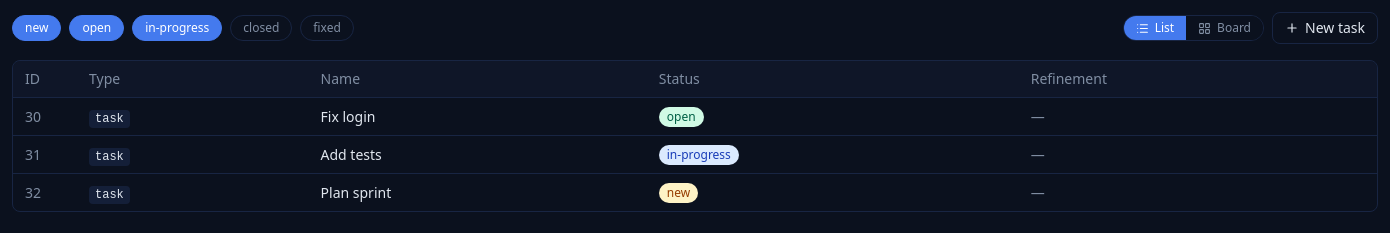
Test 1 — Board renders one column per visible status in TASK_STATUSES order › positive: default filter (new, open, in-progress) → exactly 3 columns in array order
The image size is (1390, 233).
Click the button with test id "tasks-view-toggle-board".
click(1225, 28)  # box [1186,16,1263,40]
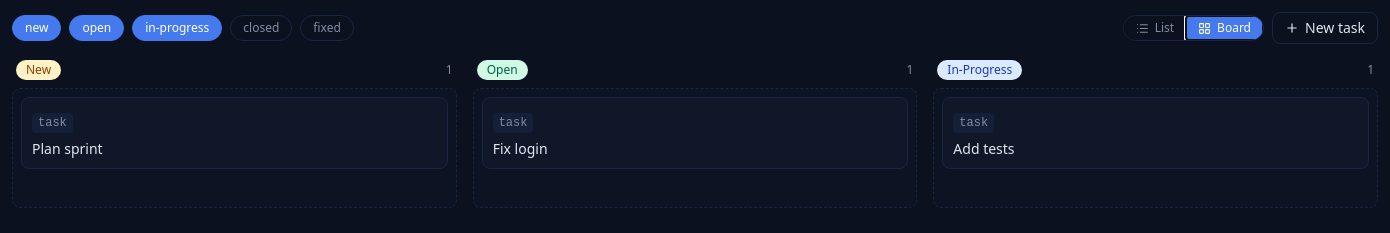
Check: the element with test id "kanban-board" is shown
